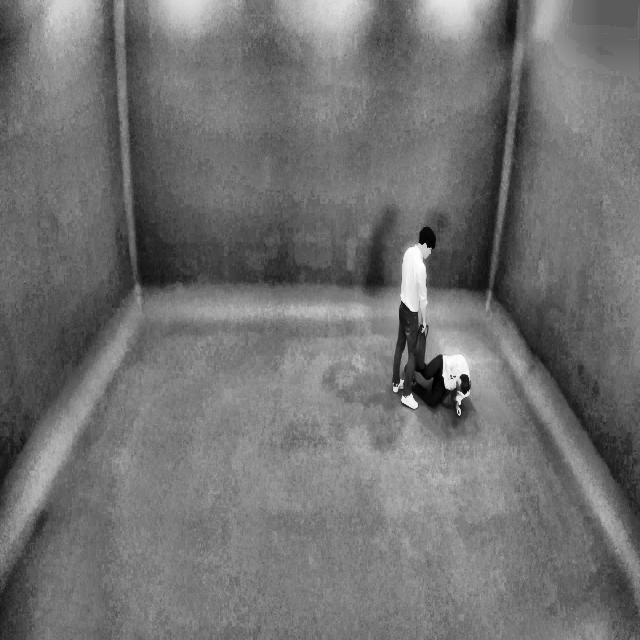assult: (394, 222, 476, 423)
